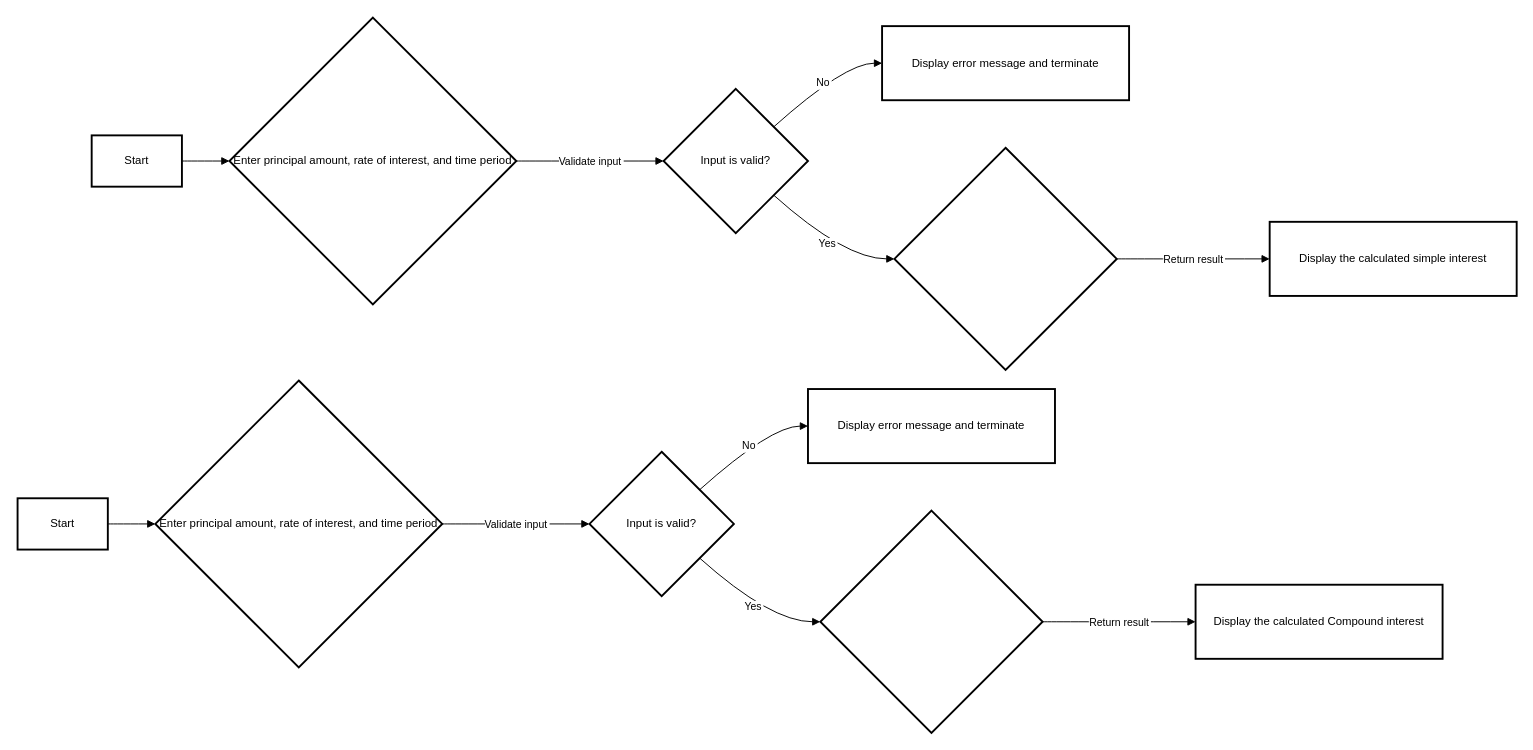
Some shapes in this 1533 by 750 pixel diagram are drawn without their labels. Here are the shapes that lost their labels. From the top down, the centre of each, then its label:
(1005,258): Calculate simple interest
(931,621): Calculate amount then compound interest
